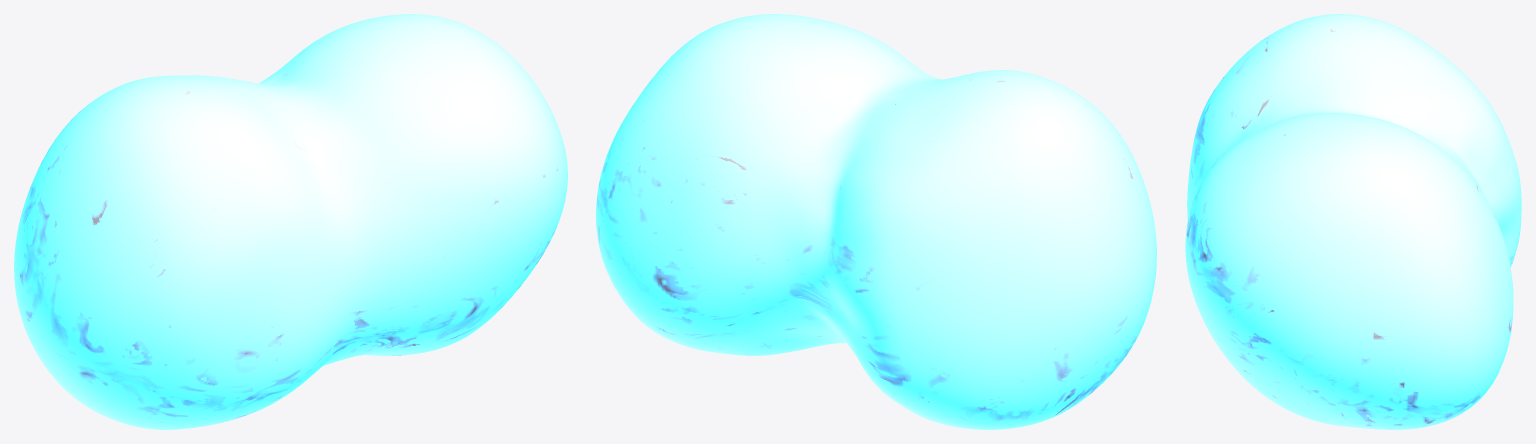
File: etacar_uv.glb
3 renders of one model, left to right at view 1: azimuth 30°, elevation 25°; view 2: azimuth 150°, elevation 25°; view 3: azimuth 270°, elevation 25°, orthographic. The views are drawn at different scales.
Parts seen in each view (by area): view 1: Ultraviolet_Light_baked; view 2: Ultraviolet_Light_baked; view 3: Ultraviolet_Light_baked.
Part boxes in pixels (x1,y1,x2,y2): Ultraviolet_Light_baked: (14, 14, 567, 429); Ultraviolet_Light_baked: (596, 14, 1156, 429); Ultraviolet_Light_baked: (1185, 14, 1521, 429).
Size of the model in its own units: 1.26 by 0.7746 by 0.7793.
1 material, 1 textured.
